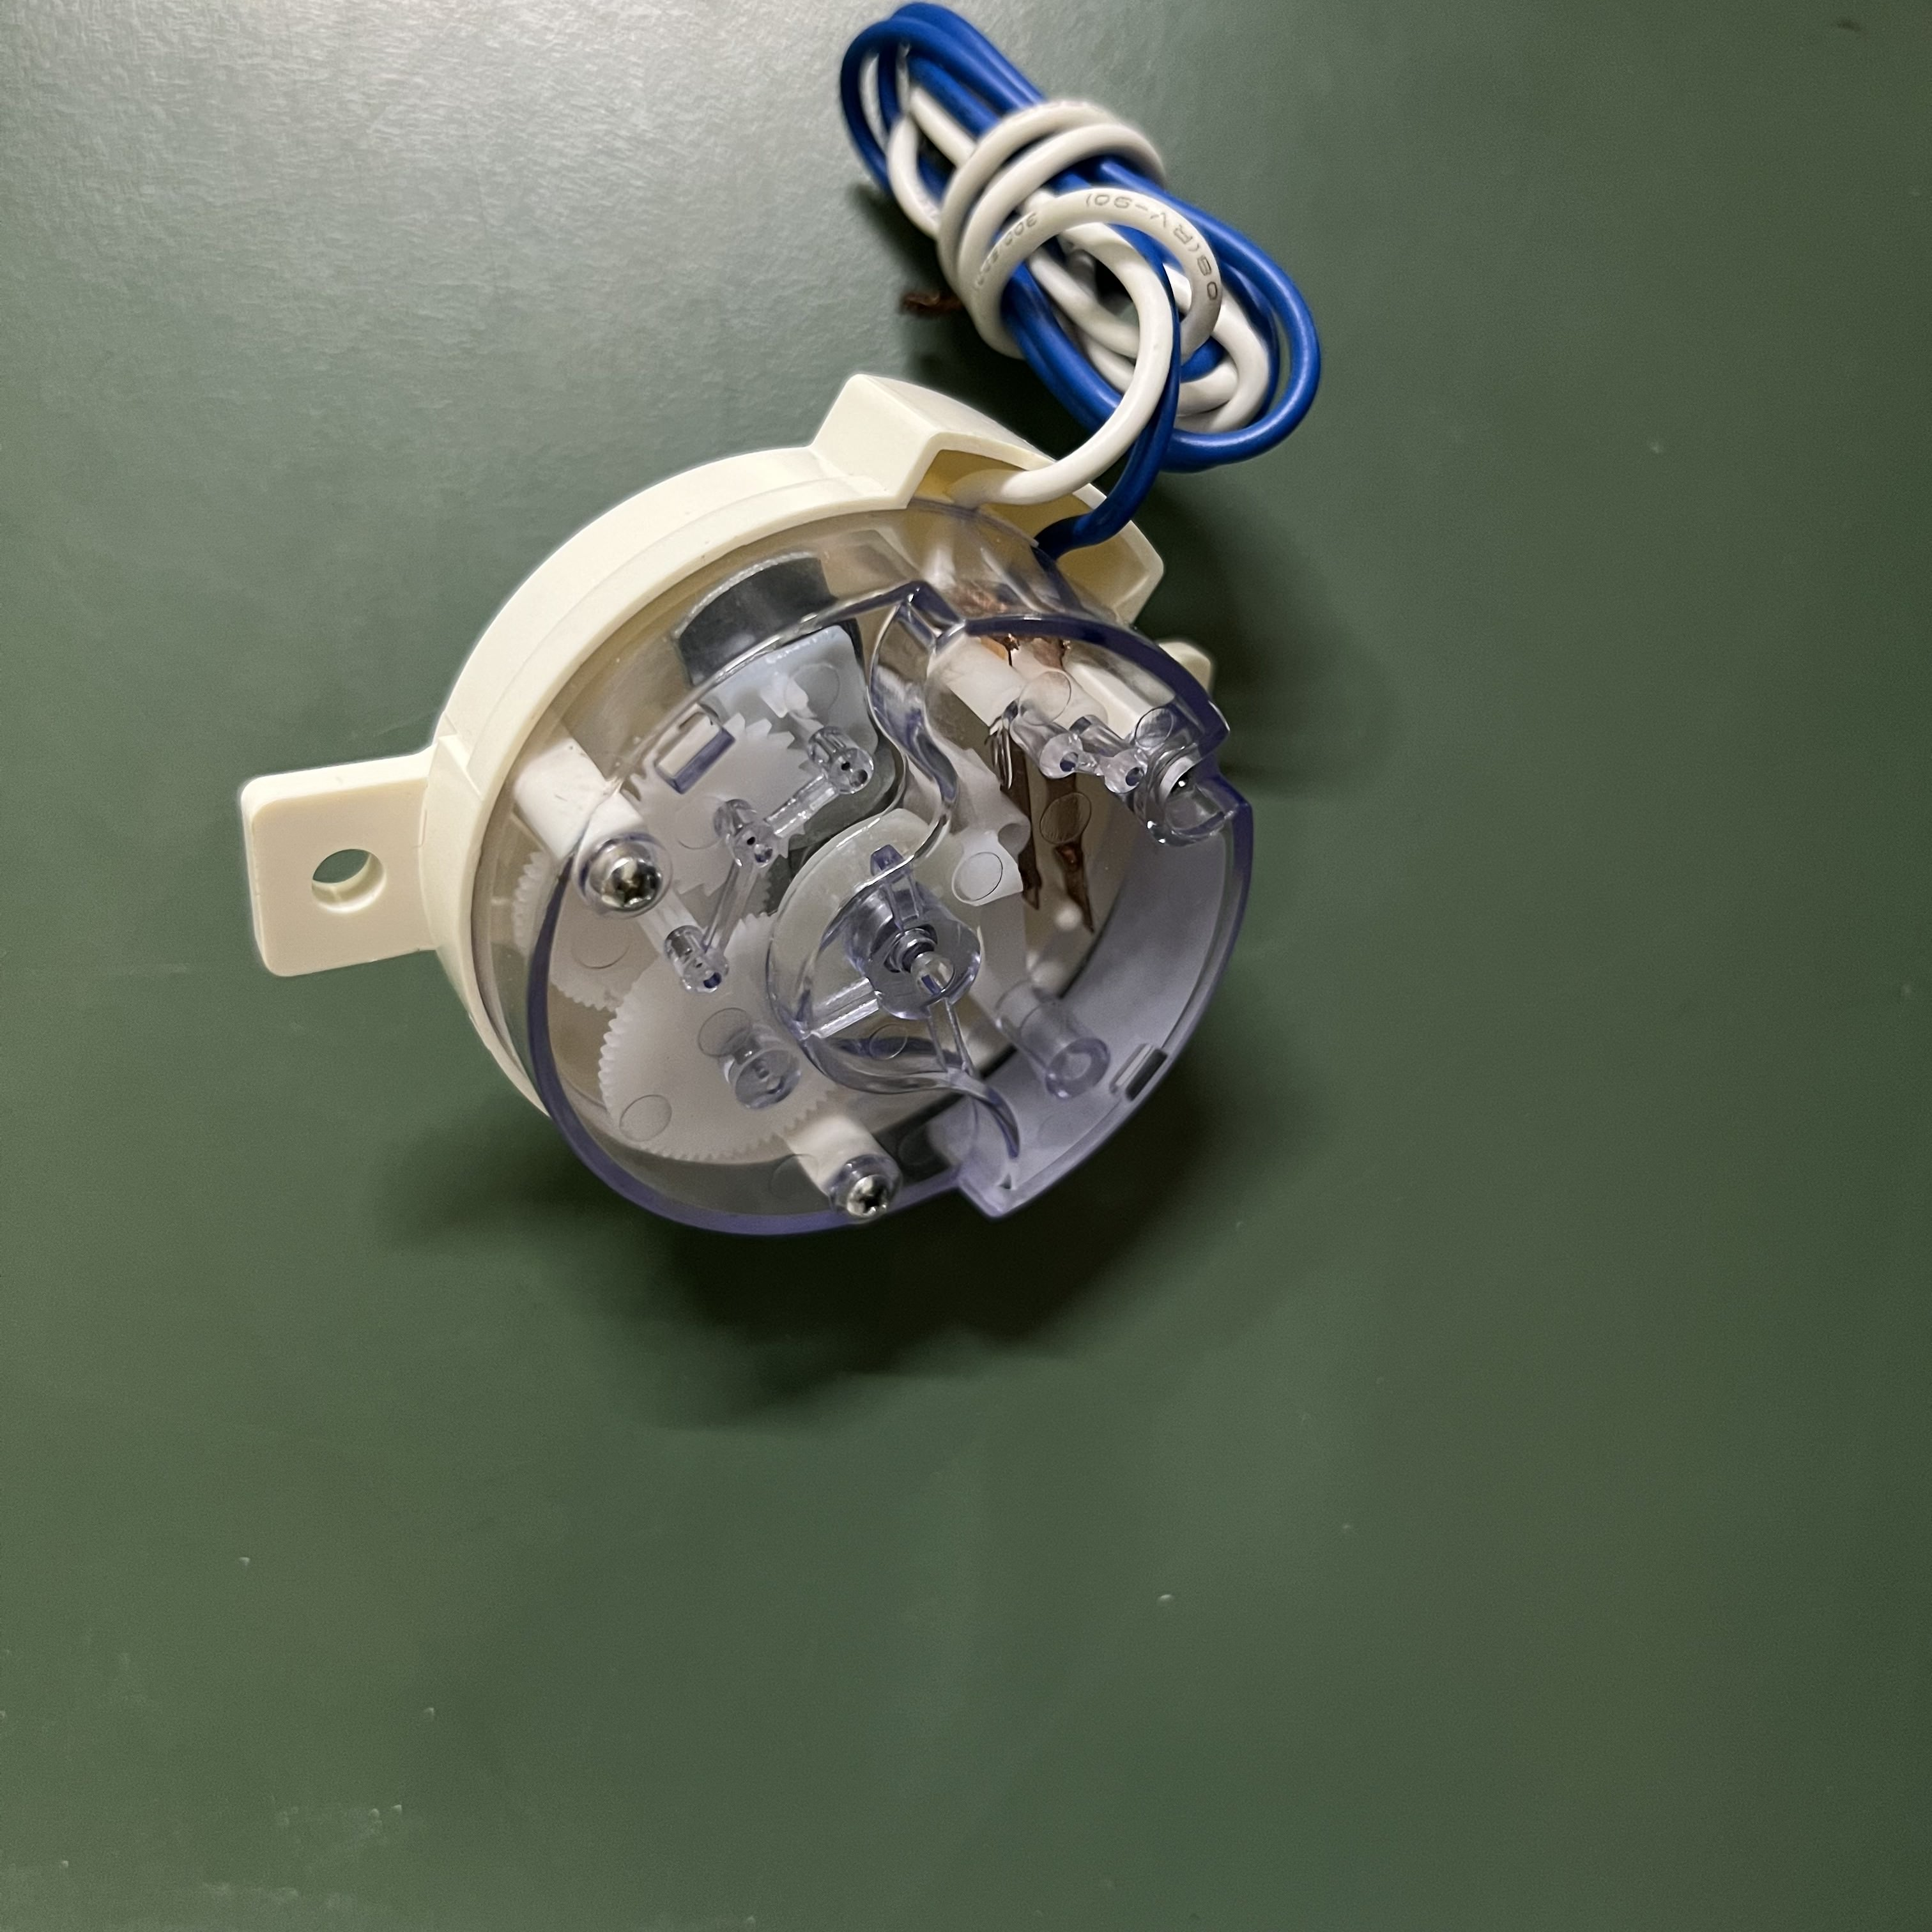circle_timer: (218, 4, 1396, 1253)
